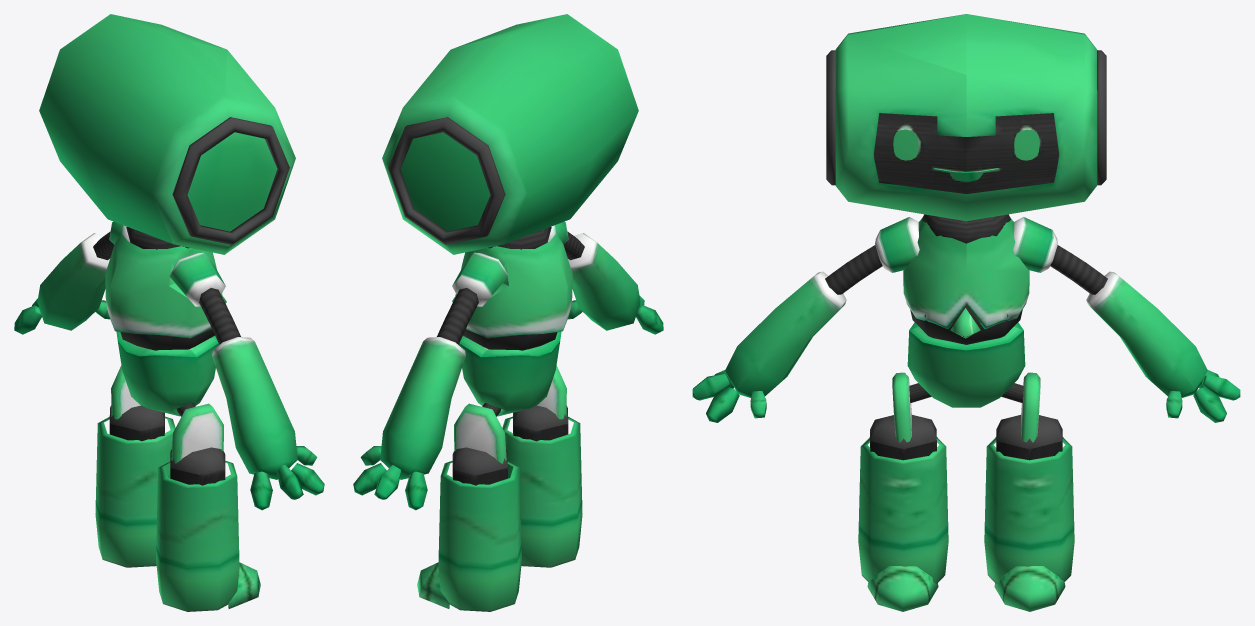
File: robot2.glb
3 views of the same model, side by side, from view 1: azimuth 30°, elevation 25°; view 2: azimuth 150°, elevation 25°; view 3: azimuth 270°, elevation 25° (orthographic). The views are drawn at different scales.
Visible parts, largest first — view 1: mesh_101; view 2: mesh_101; view 3: mesh_101.
Boxes of the visible parts, left/top/right/bottom form: mesh_101: left=14, top=14, right=324, bottom=611; mesh_101: left=353, top=14, right=663, bottom=611; mesh_101: left=692, top=14, right=1240, bottom=611.
Bounding box in the file's own units: 1.11 × 3.55 × 3.11.
1 material, 1 textured.
